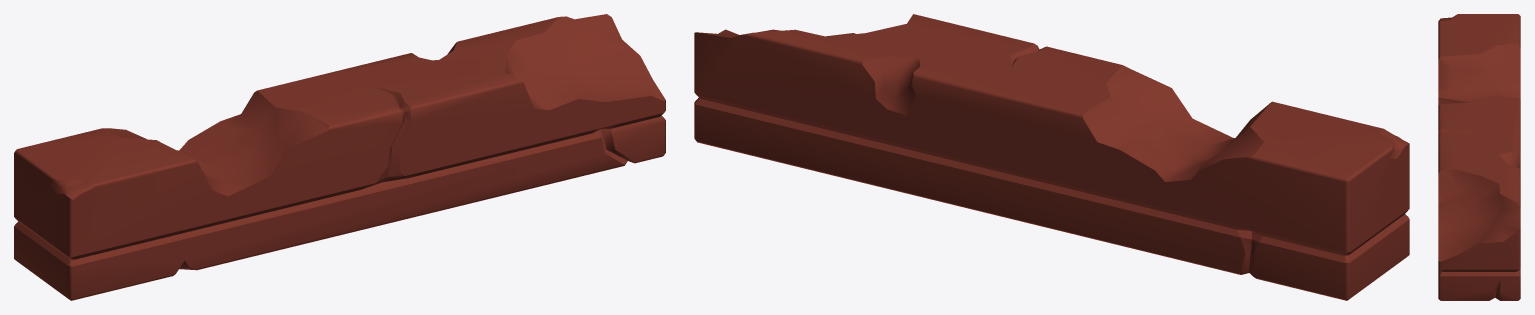
File: ruins_003.fbx
The picture shows the model from 3 angles, left to right: view 1: azimuth 30°, elevation 25°; view 2: azimuth 150°, elevation 25°; view 3: azimuth 270°, elevation 25°; orthographic projection. The views are drawn at different scales.
Parts seen in each view (by area): view 1: ruins_003; view 2: ruins_003; view 3: ruins_003.
Part boxes in pixels (x1,y1,x2,y2): ruins_003: (14, 14, 665, 300); ruins_003: (694, 14, 1409, 300); ruins_003: (1438, 14, 1520, 300).
Size of the model in its own units: 2729 by 455 by 489.
